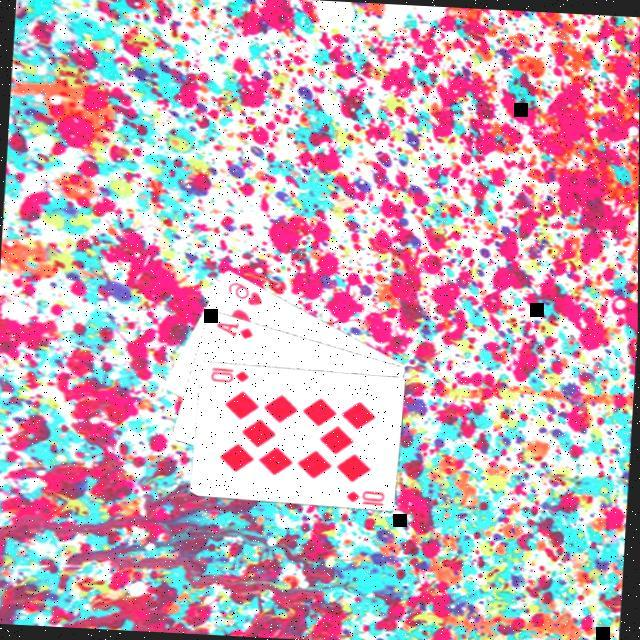10D: (209, 365, 254, 387), (345, 488, 390, 510)
6H: (226, 279, 268, 310)
AD: (214, 319, 259, 342)
